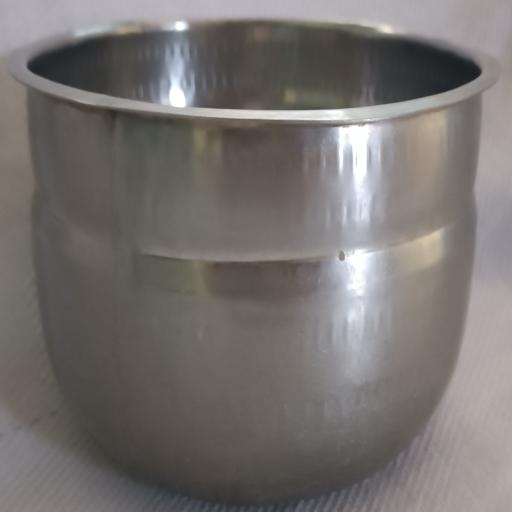vessel: (9, 19, 498, 502)
